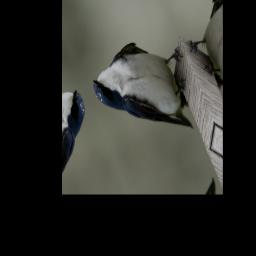Swallow: (84, 20, 210, 167)
